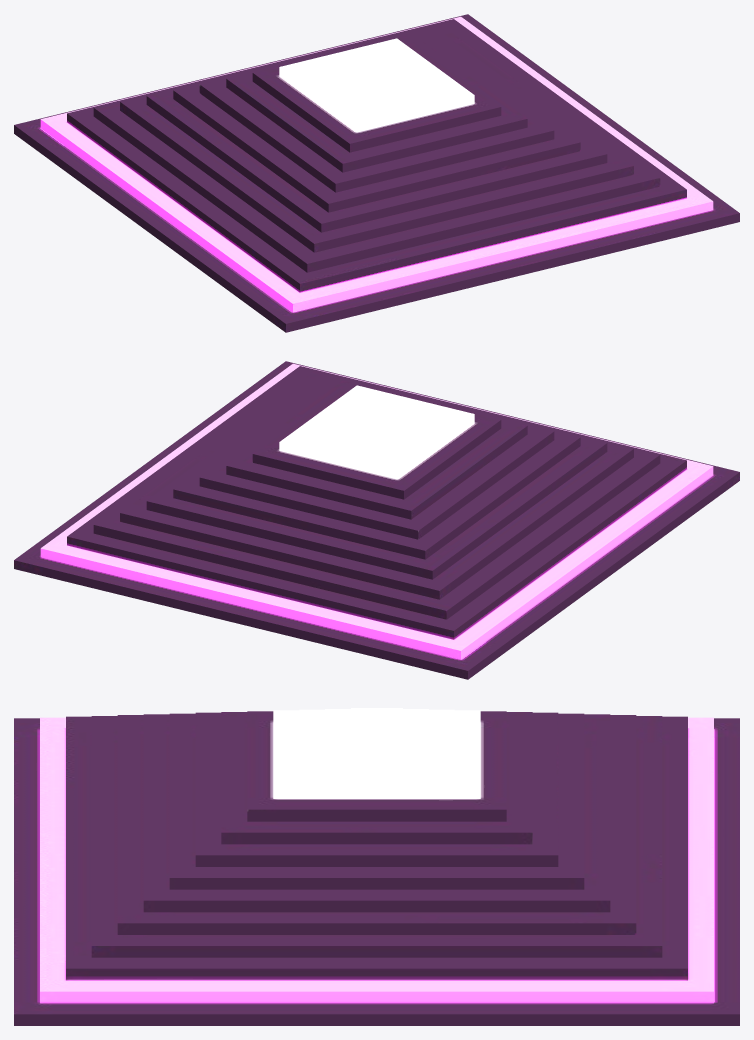
The model's file is sedge_hat.glb.
3 renders of one model, top to bottom at view 1: azimuth 30°, elevation 25°; view 2: azimuth 150°, elevation 25°; view 3: azimuth 270°, elevation 25°, orthographic. The views are drawn at different scales.
Visible parts, largest first — view 1: rice_hat.001; view 2: rice_hat.001; view 3: rice_hat.001.
Boxes of the visible parts, x1,y1,x2,y2 form: rice_hat.001: [14, 14, 739, 332]; rice_hat.001: [14, 361, 739, 679]; rice_hat.001: [14, 708, 739, 1025].
Size of the model in its own units: 5.4 by 1.4 by 5.6.
1 material, 1 textured.
